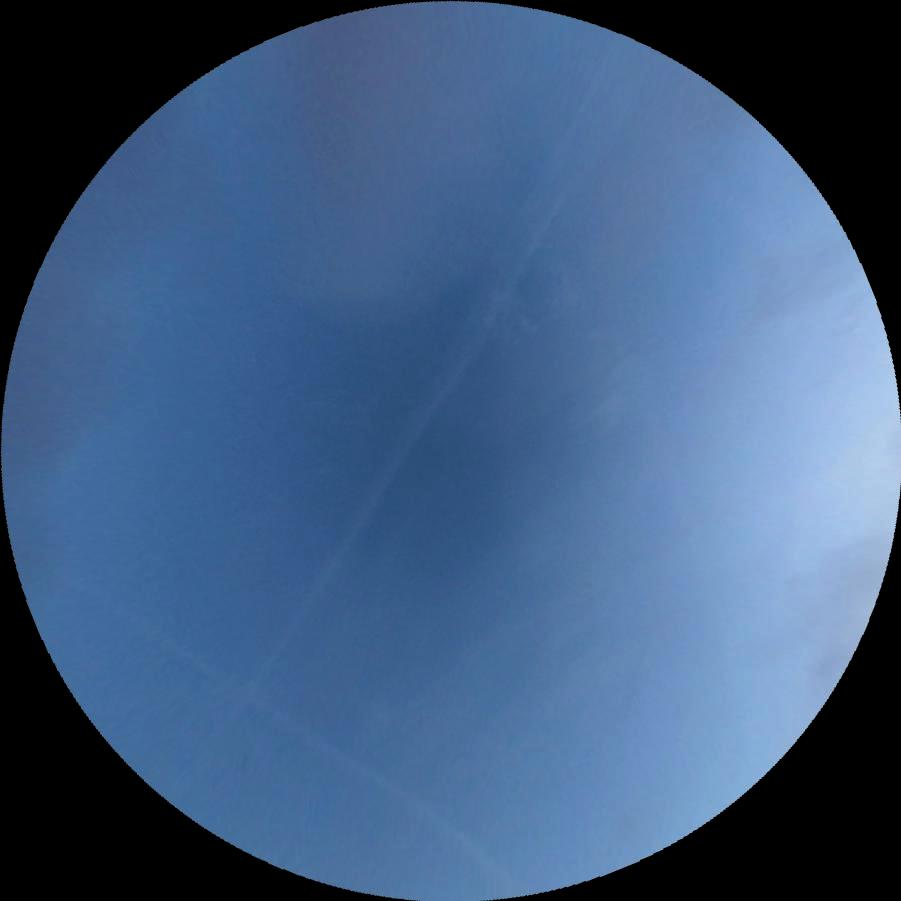contrail old: (107, 601, 498, 869)
contrail veryold: (220, 27, 661, 697)
